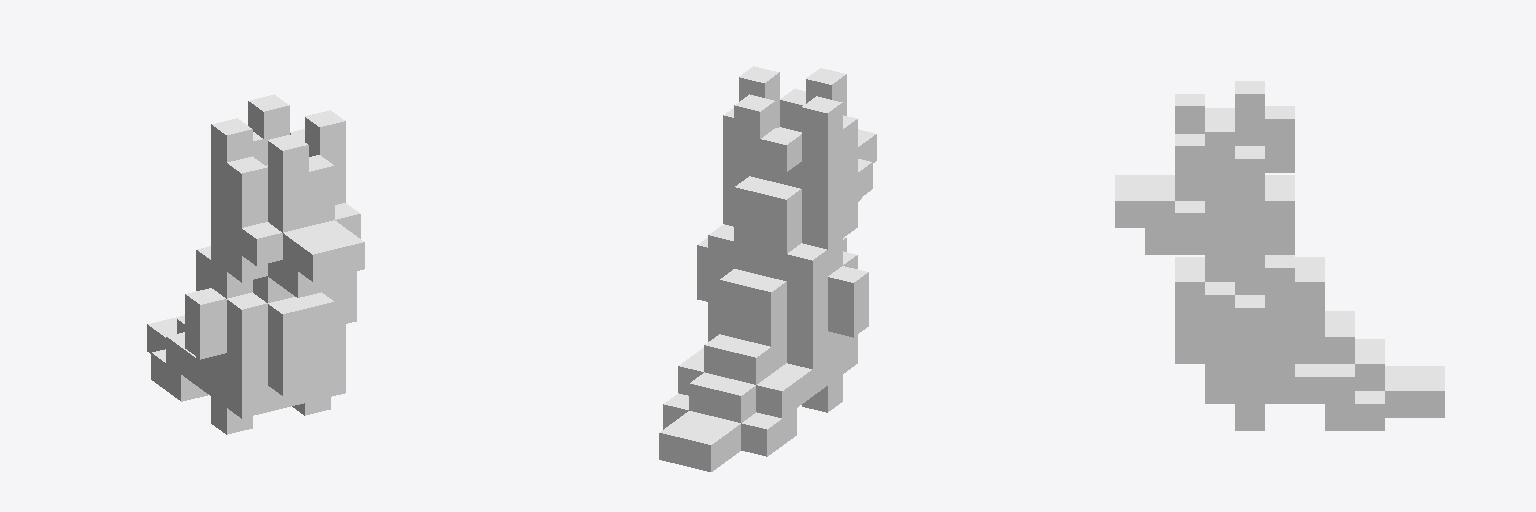
File: Korol.obj
3 renders of one model, left to right at view 1: azimuth 30°, elevation 25°; view 2: azimuth 150°, elevation 25°; view 3: azimuth 270°, elevation 25°, orthographic.
Parts seen in each view (by area): view 1: object 1; view 2: object 1; view 3: object 1.
Part boxes in pixels (x1,y1,x2,y2): object 1: (147, 94, 364, 434); object 1: (659, 66, 876, 471); object 1: (1115, 81, 1444, 430).
Bounding box in the file's own units: 0.6 × 1.1 × 1.1.